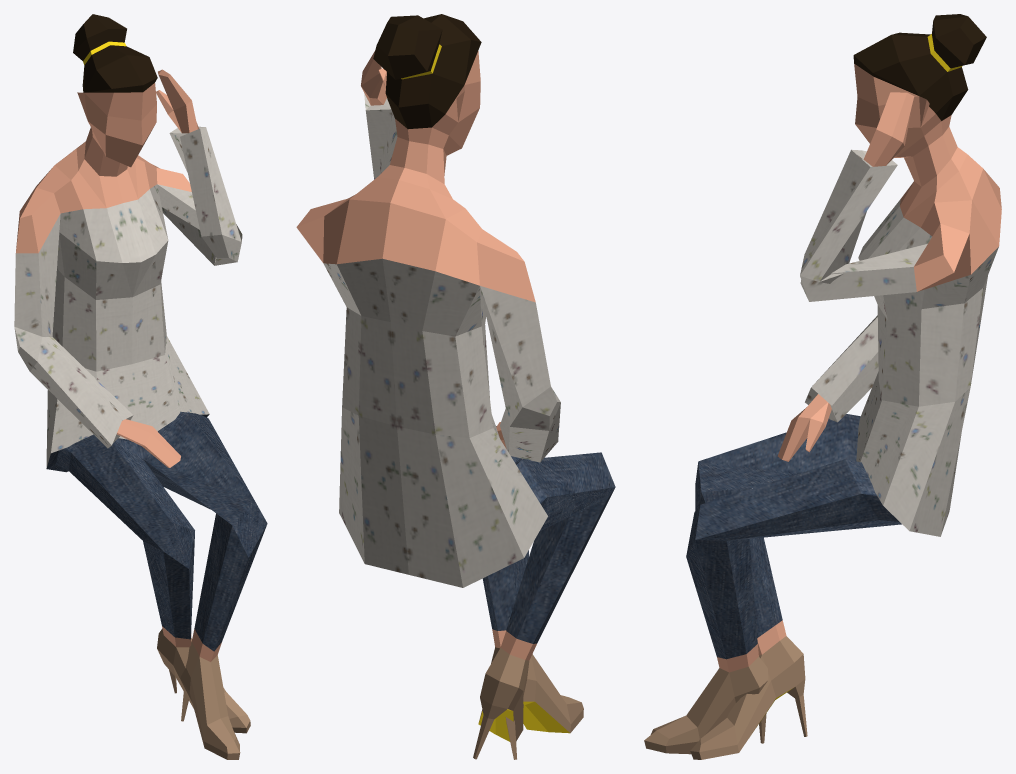
File: SpringWomanA.010.glb
3 renders of one model, left to right at view 1: azimuth 30°, elevation 25°; view 2: azimuth 150°, elevation 25°; view 3: azimuth 270°, elevation 25°, orthographic. The views are drawn at different scales.
Parts seen in each view (by area): view 1: SpringWomanA.011; view 2: SpringWomanA.011; view 3: SpringWomanA.011.
Boxes of the visible parts, x1,y1,x2,y2 form: SpringWomanA.011: [14, 14, 267, 759]; SpringWomanA.011: [296, 14, 615, 759]; SpringWomanA.011: [644, 14, 1001, 759].
Size of the model in its own units: 0.4218 by 1.4 by 0.6228.
Materials: 1 (1 with a texture image).
